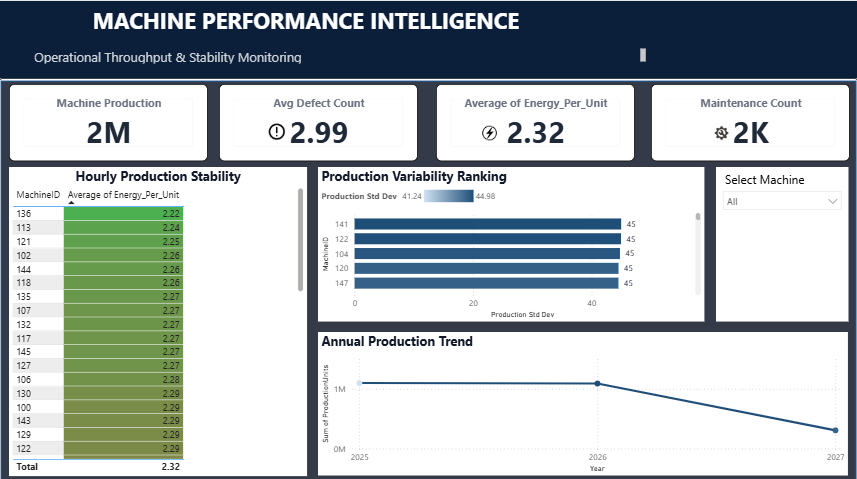

The dashboard page shown, as its layout file describes it:
{"tool":"powerbi","page":{"name":"Machine Throughput Performance ","canvas":[1280,720],"ordinal":1},"visuals":[{"type":"shape","box":[16,112,1248,592],"z":0},{"type":"cardVisual","fields":{"Data":["HOM.Avg Defect Count"]},"box":[336,112,288,112],"z":1000},{"type":"cardVisual","fields":{"Data":["Avg(HOM.Energy_Per_Unit)"]},"box":[649.9,112.3,288,112],"z":2000},{"type":"cardVisual","fields":{"Data":["HOM.Maintenance Count"]},"box":[961.5,112.3,288,112],"z":3000},{"type":"slicer","fields":{"Values":["HOM.MachineID"]},"box":[896,0,176,80],"z":4000},{"type":"tableEx","title":"Hourly Production Stability ","fields":{"Values":["HOM.MachineID","Avg(HOM.Energy_Per_Unit)"]},"box":[32,240,432,448],"z":5000},{"type":"clusteredBarChart","title":"Production Variability Ranking ","fields":{"Category":["HOM.MachineID"],"Y":["HOM.Production Std Dev"]},"box":[480,240,560,224],"z":6000},{"type":"image","box":[96,48,176,48],"z":7000},{"type":"textbox","box":[16,0,1248,112],"z":8000},{"type":"textbox","box":[64,64,896,32],"z":9000},{"type":"cardVisual","fields":{"Data":["HOM.Machine Production"]},"box":[32,112,288,112],"z":10000},{"type":"lineChart","title":"Annual Production Trend","fields":{"Y":["Sum(HOM.ProductionUnits)"],"Category":["HOM.Timestamp.Variation.Date Hierarchy.Year"]},"box":[480,480,768,208],"z":11000},{"type":"slicer","fields":{"Values":["HOM.MachineID"]},"box":[1056,240,192,224],"z":12000}]}

Visuals, with their boxes in screenshot pixels (x1, y1, x2, y2), scaled from the page's 1280x720 canvas onto the 857x479 screenshot:
shape: bbox=[11, 75, 846, 468]
cardVisual - HOM.Avg Defect Count: bbox=[225, 75, 418, 149]
cardVisual - Avg(HOM.Energy_Per_Unit): bbox=[435, 75, 628, 149]
cardVisual - HOM.Maintenance Count: bbox=[644, 75, 837, 149]
slicer - HOM.MachineID: bbox=[600, 0, 718, 53]
"Hourly Production Stability " tableEx: bbox=[21, 160, 311, 458]
"Production Variability Ranking " clusteredBarChart: bbox=[321, 160, 696, 309]
image: bbox=[64, 32, 182, 64]
textbox: bbox=[11, 0, 846, 75]
textbox: bbox=[43, 43, 643, 64]
cardVisual - HOM.Machine Production: bbox=[21, 75, 214, 149]
"Annual Production Trend" lineChart: bbox=[321, 319, 836, 458]
slicer - HOM.MachineID: bbox=[707, 160, 836, 309]
